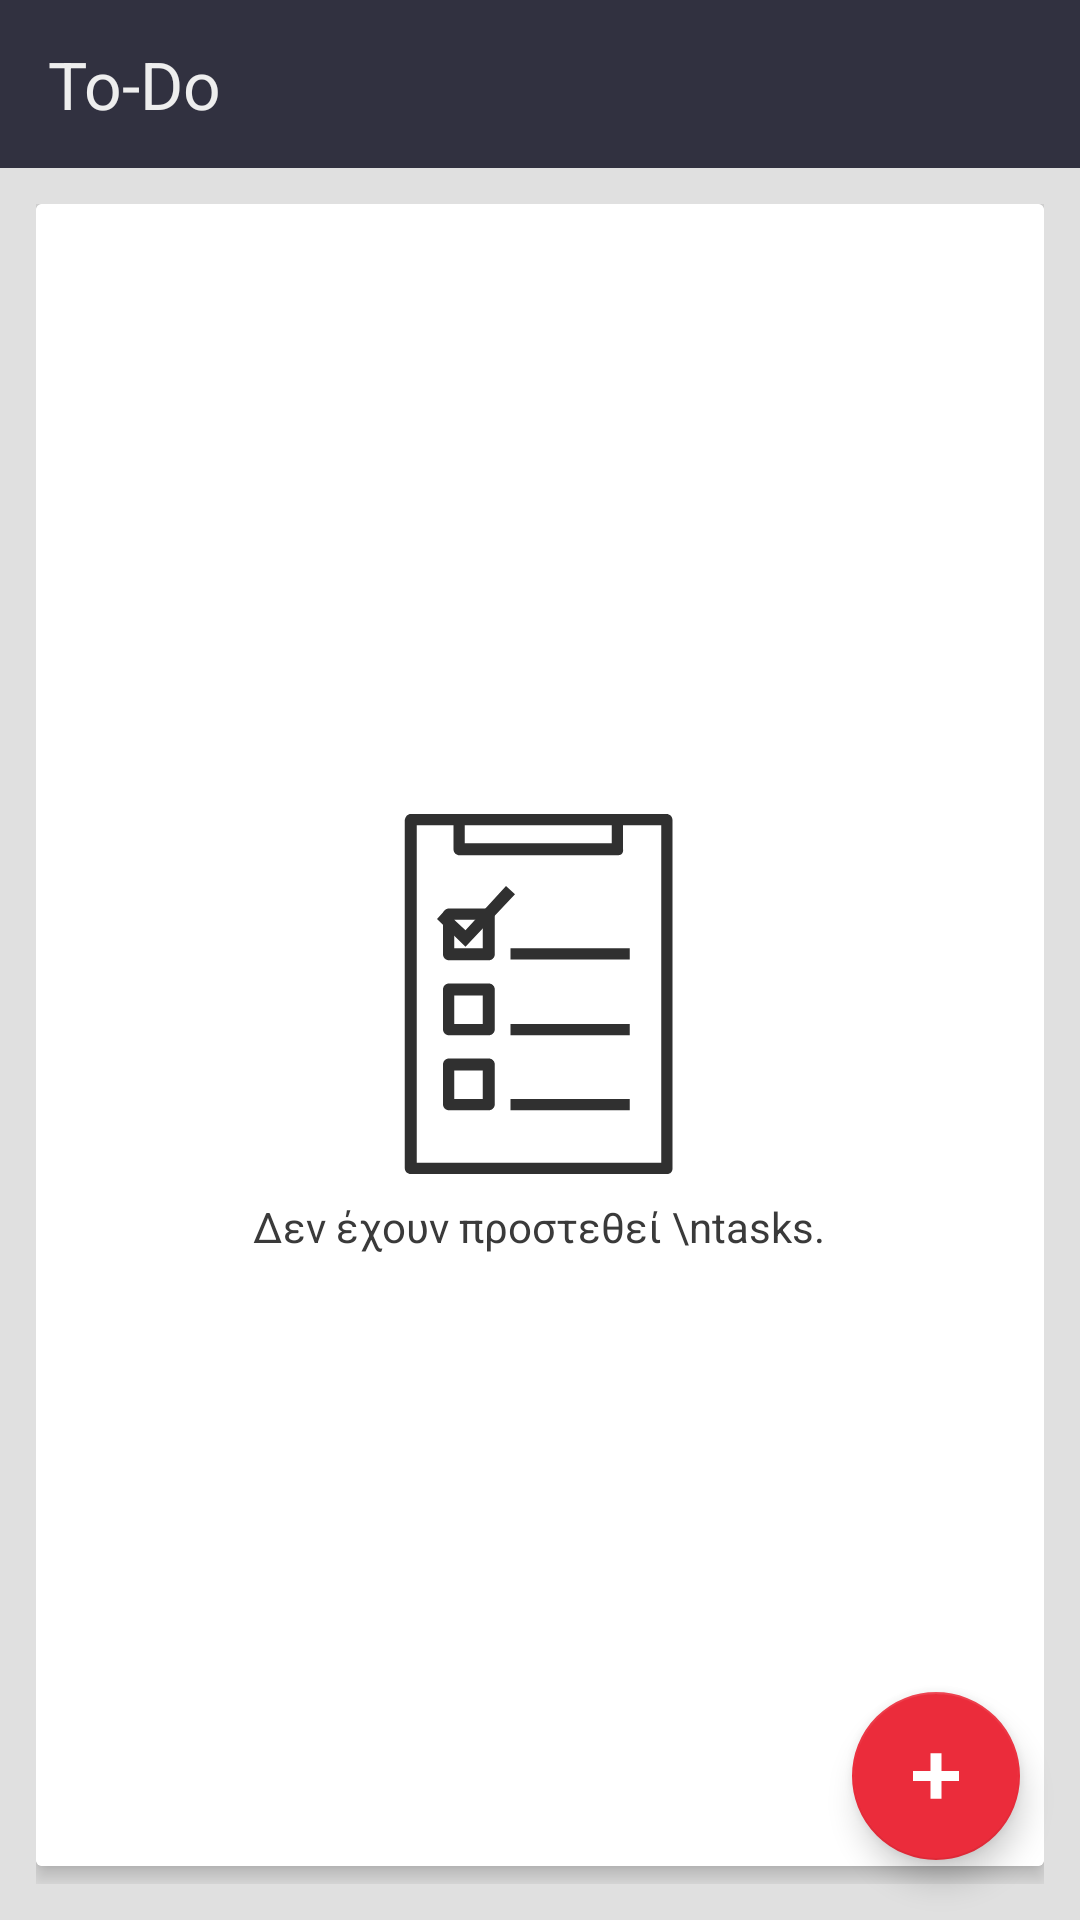

Icon bounding boxes for this 1080×1920 phone screenshot, format (x1, y1, x2, y2):
add: (852, 1692, 1020, 1860)
